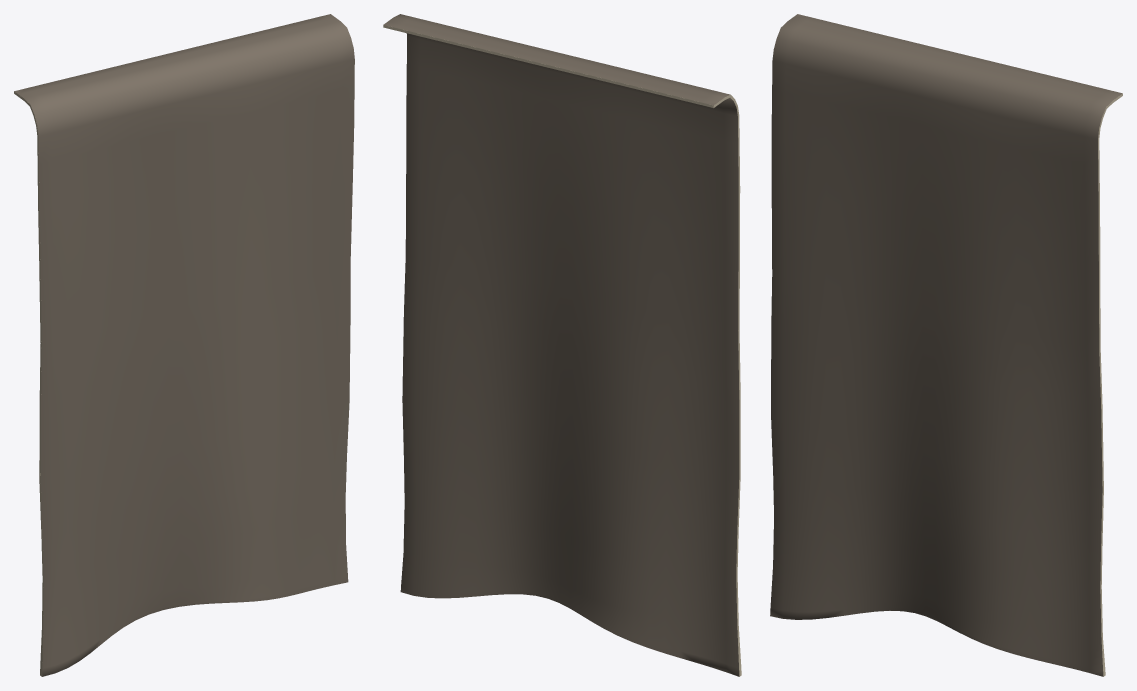
File: kitchen-tea-towel-b0046e19de48.glb
The picture shows the model from 3 angles, left to right: view 1: azimuth 30°, elevation 25°; view 2: azimuth 150°, elevation 25°; view 3: azimuth 330°, elevation 25°; orthographic projection. The views are drawn at different scales.
Visible parts, largest first — view 1: cover-cloth, paper; view 2: cover-cloth, paper; view 3: cover-cloth, paper.
Part boxes in pixels (bbox=[...]): cover-cloth: bbox=[14, 14, 354, 676]; paper: bbox=[14, 91, 43, 676]; cover-cloth: bbox=[383, 14, 739, 676]; paper: bbox=[383, 25, 741, 676]; cover-cloth: bbox=[770, 14, 1122, 676]; paper: bbox=[1098, 93, 1122, 676].
Bounding box in the file's own units: 0.24 × 0.4099 × 0.0392.
